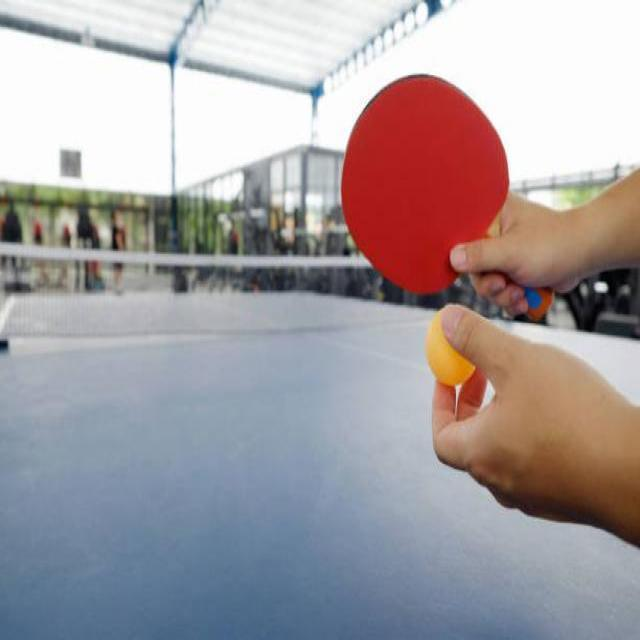ping-pong-ball: (424, 304, 476, 384)
